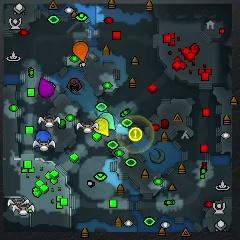Other: (129, 127, 143, 141)
p1: (36, 131, 52, 144)
p2: (100, 111, 115, 131)
p3: (38, 79, 54, 97)
p4: (95, 118, 109, 136)
p5: (72, 41, 89, 61)
